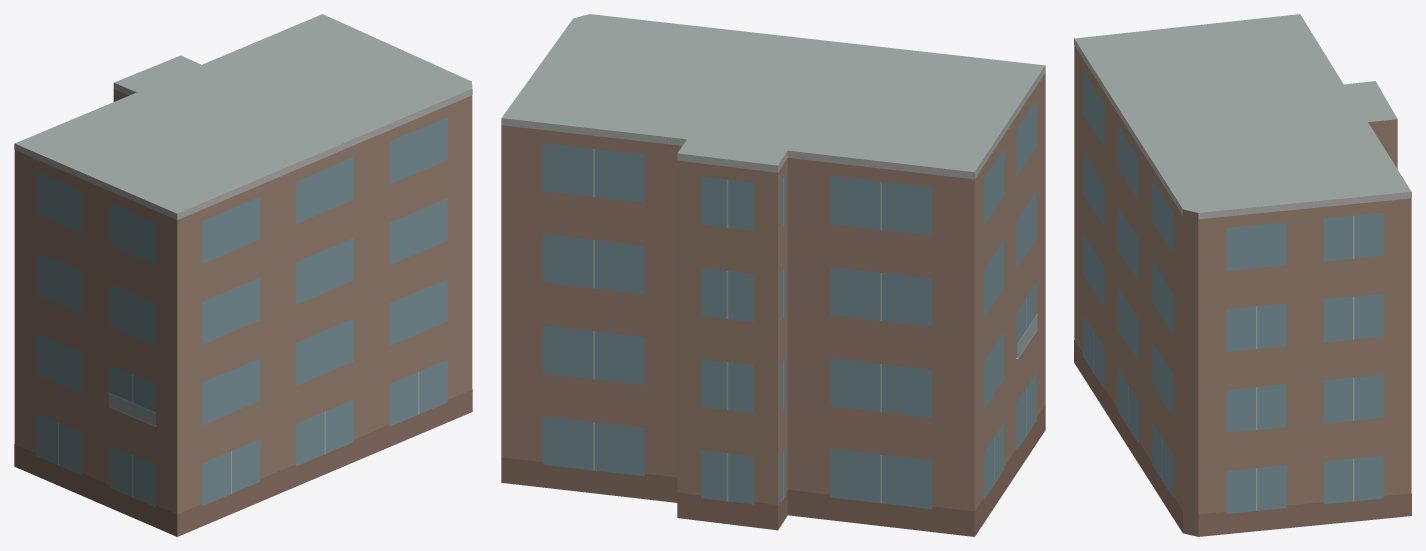
The model's file is survey-upis-32702486.glb.
3 views of the same model, side by side, from view 1: azimuth 30°, elevation 25°; view 2: azimuth 150°, elevation 25°; view 3: azimuth 270°, elevation 25° (orthographic). The views are drawn at different scales.
Parts seen in each view (by area): view 1: survey-upis-32702486.tmp; view 2: survey-upis-32702486.tmp; view 3: survey-upis-32702486.tmp.
Boxes of the visible parts, left/top/right/bottom form: survey-upis-32702486.tmp: left=14, top=14, right=472, bottom=536; survey-upis-32702486.tmp: left=501, top=14, right=1045, bottom=536; survey-upis-32702486.tmp: left=1074, top=14, right=1411, bottom=536.
Bounding box in the file's own units: 16.34 × 12.4 × 11.72.
